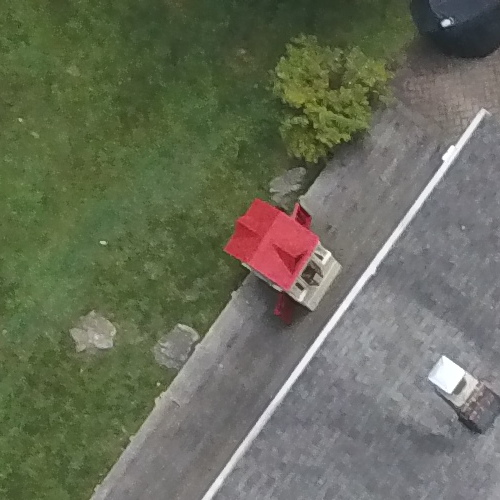no larvae: (205, 192, 363, 326)
toy: (200, 189, 356, 325)
